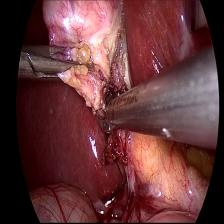Clipper: (98, 90, 134, 135)
Grasper: (19, 42, 95, 85)
